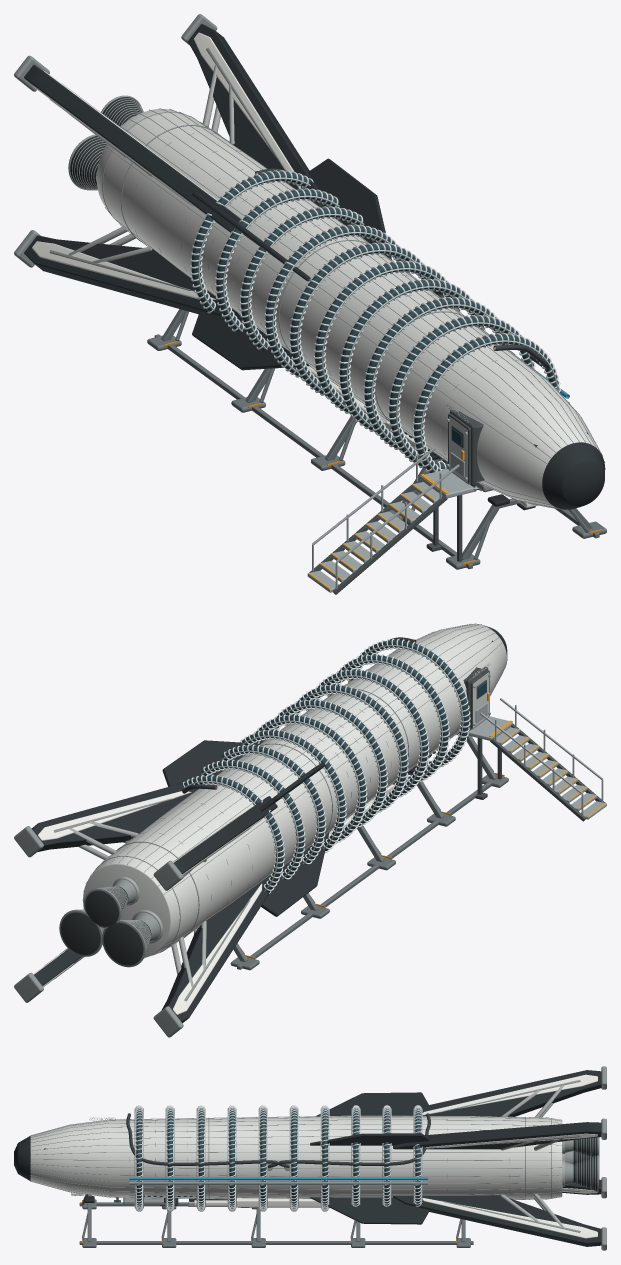
File: rocketshipmagnet.glb
3 views of the same model, one above another, from view 1: azimuth 30°, elevation 25°; view 2: azimuth 150°, elevation 25°; view 3: azimuth 270°, elevation 25° (orthographic). The views are drawn at different scales.
Parts seen in each view (by area): view 1: Primary hull | tapered ceramic fuselage, Landing leg 2 | dark chassis, Landing leg 0 | dark chassis, Landing leg 1 | dark chassis, Nose | dark thermal cap, Thermal fin 2 | black swept leading edge, Thermal fin 0 | black swept leading edge, Service cradle | longitudinal base rail, Landing leg 2 | outer white armor, Landing leg 0 | outer white armor, HTS toroid 02 | insulated cryostat, HTS toroid 04 | insulated cryostat (+22 smaller); view 2: Primary hull | tapered ceramic fuselage, Landing leg 0 | dark chassis, Landing leg 2 | dark chassis, Thermal fin 2 | black swept leading edge, Thermal fin 0 | black swept leading edge, Landing leg 1 | dark chassis, Service cradle | longitudinal base rail, Landing leg 0 | outer white armor, Landing leg 2 | outer white armor, Engine 0 | exhaust interior, Engine 1 | exhaust interior, HTS toroid 02 | insulated cryostat (+23 smaller); view 3: Primary hull | tapered ceramic fuselage, Landing leg 3 | dark chassis, Landing leg 0 | dark chassis, Landing leg 1 | dark chassis, Thermal fin 3 | black swept leading edge, Thermal fin 1 | black swept leading edge, Service cradle | longitudinal base rail.001, Landing leg 3 | outer white armor, Landing leg 1 | outer white armor, HTS | shielded cryogenic service bus, Thermal fin 0 | black swept leading edge, HTS | shielded cryogenic service bus.001 (+42 smaller).
Part boxes in pixels (<box>): Primary hull | tapered ceramic fuselage: <box>96,109,599,508</box>; Landing leg 2 | dark chassis: <box>24,235,240,317</box>; Landing leg 0 | dark chassis: <box>188,24,323,207</box>; Landing leg 1 | dark chassis: <box>24,64,241,232</box>; Nose | dark thermal cap: <box>534,432,605,509</box>; Thermal fin 2 | black swept leading edge: <box>192,311,309,370</box>; Thermal fin 0 | black swept leading edge: <box>308,158,391,259</box>; Service cradle | longitudinal base rail: <box>154,334,472,569</box>; Landing leg 2 | outer white armor: <box>32,241,215,300</box>; Landing leg 0 | outer white armor: <box>193,32,300,188</box>; HTS toroid 02 | insulated cryostat: <box>389,316,533,469</box>; HTS toroid 04 | insulated cryostat: <box>339,280,484,432</box>; Primary hull | tapered ceramic fuselage: <box>83,624,506,957</box>; Landing leg 0 | dark chassis: <box>31,782,198,851</box>; Landing leg 2 | dark chassis: <box>161,875,271,1023</box>; Thermal fin 2 | black swept leading edge: <box>261,832,329,916</box>; Thermal fin 0 | black swept leading edge: <box>162,740,260,786</box>; Landing leg 1 | dark chassis: <box>174,796,277,874</box>; Service cradle | longitudinal base rail: <box>237,781,491,969</box>; Landing leg 0 | outer white armor: <box>38,791,191,840</box>; Landing leg 2 | outer white armor: <box>173,883,262,1014</box>; Engine 0 | exhaust interior: <box>103,922,143,965</box>; Engine 1 | exhaust interior: <box>61,912,100,954</box>; HTS toroid 02 | insulated cryostat: <box>328,655,448,782</box>; Primary hull | tapered ceramic fuselage: <box>30,1116,562,1199</box>; Landing leg 3 | dark chassis: <box>393,1195,601,1246</box>; Landing leg 0 | dark chassis: <box>393,1122,601,1149</box>; Landing leg 1 | dark chassis: <box>395,1070,601,1117</box>; Thermal fin 3 | black swept leading edge: <box>310,1197,429,1224</box>; Thermal fin 1 | black swept leading edge: <box>316,1092,428,1116</box>; Service cradle | longitudinal base rail.001: <box>79,1241,473,1244</box>; Landing leg 3 | outer white armor: <box>422,1198,597,1238</box>; Landing leg 1 | outer white armor: <box>422,1074,597,1115</box>; HTS | shielded cryogenic service bus: <box>129,1181,427,1184</box>; Thermal fin 0 | black swept leading edge: <box>310,1133,429,1145</box>; HTS | shielded cryogenic service bus.001: <box>129,1177,427,1179</box>.
Size of the model in its own units: 10.83 by 7.36 by 29.8.
